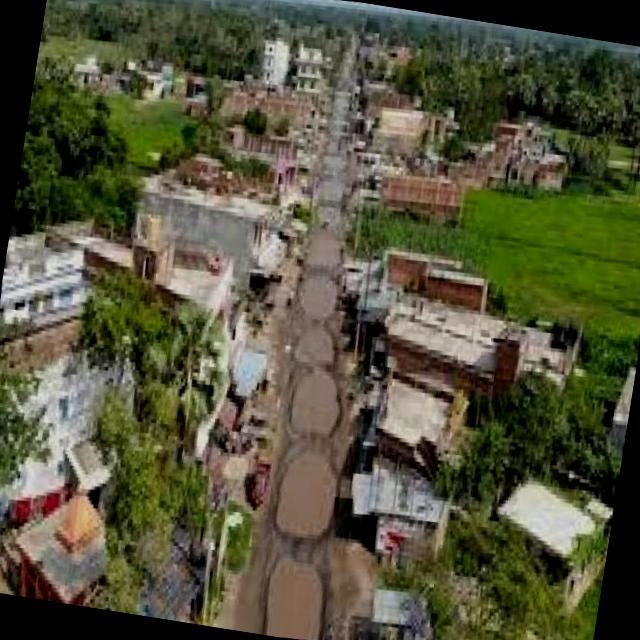Pathole: (274, 454, 337, 539), (264, 558, 324, 640), (290, 374, 338, 438), (302, 275, 335, 316), (301, 330, 332, 365)
